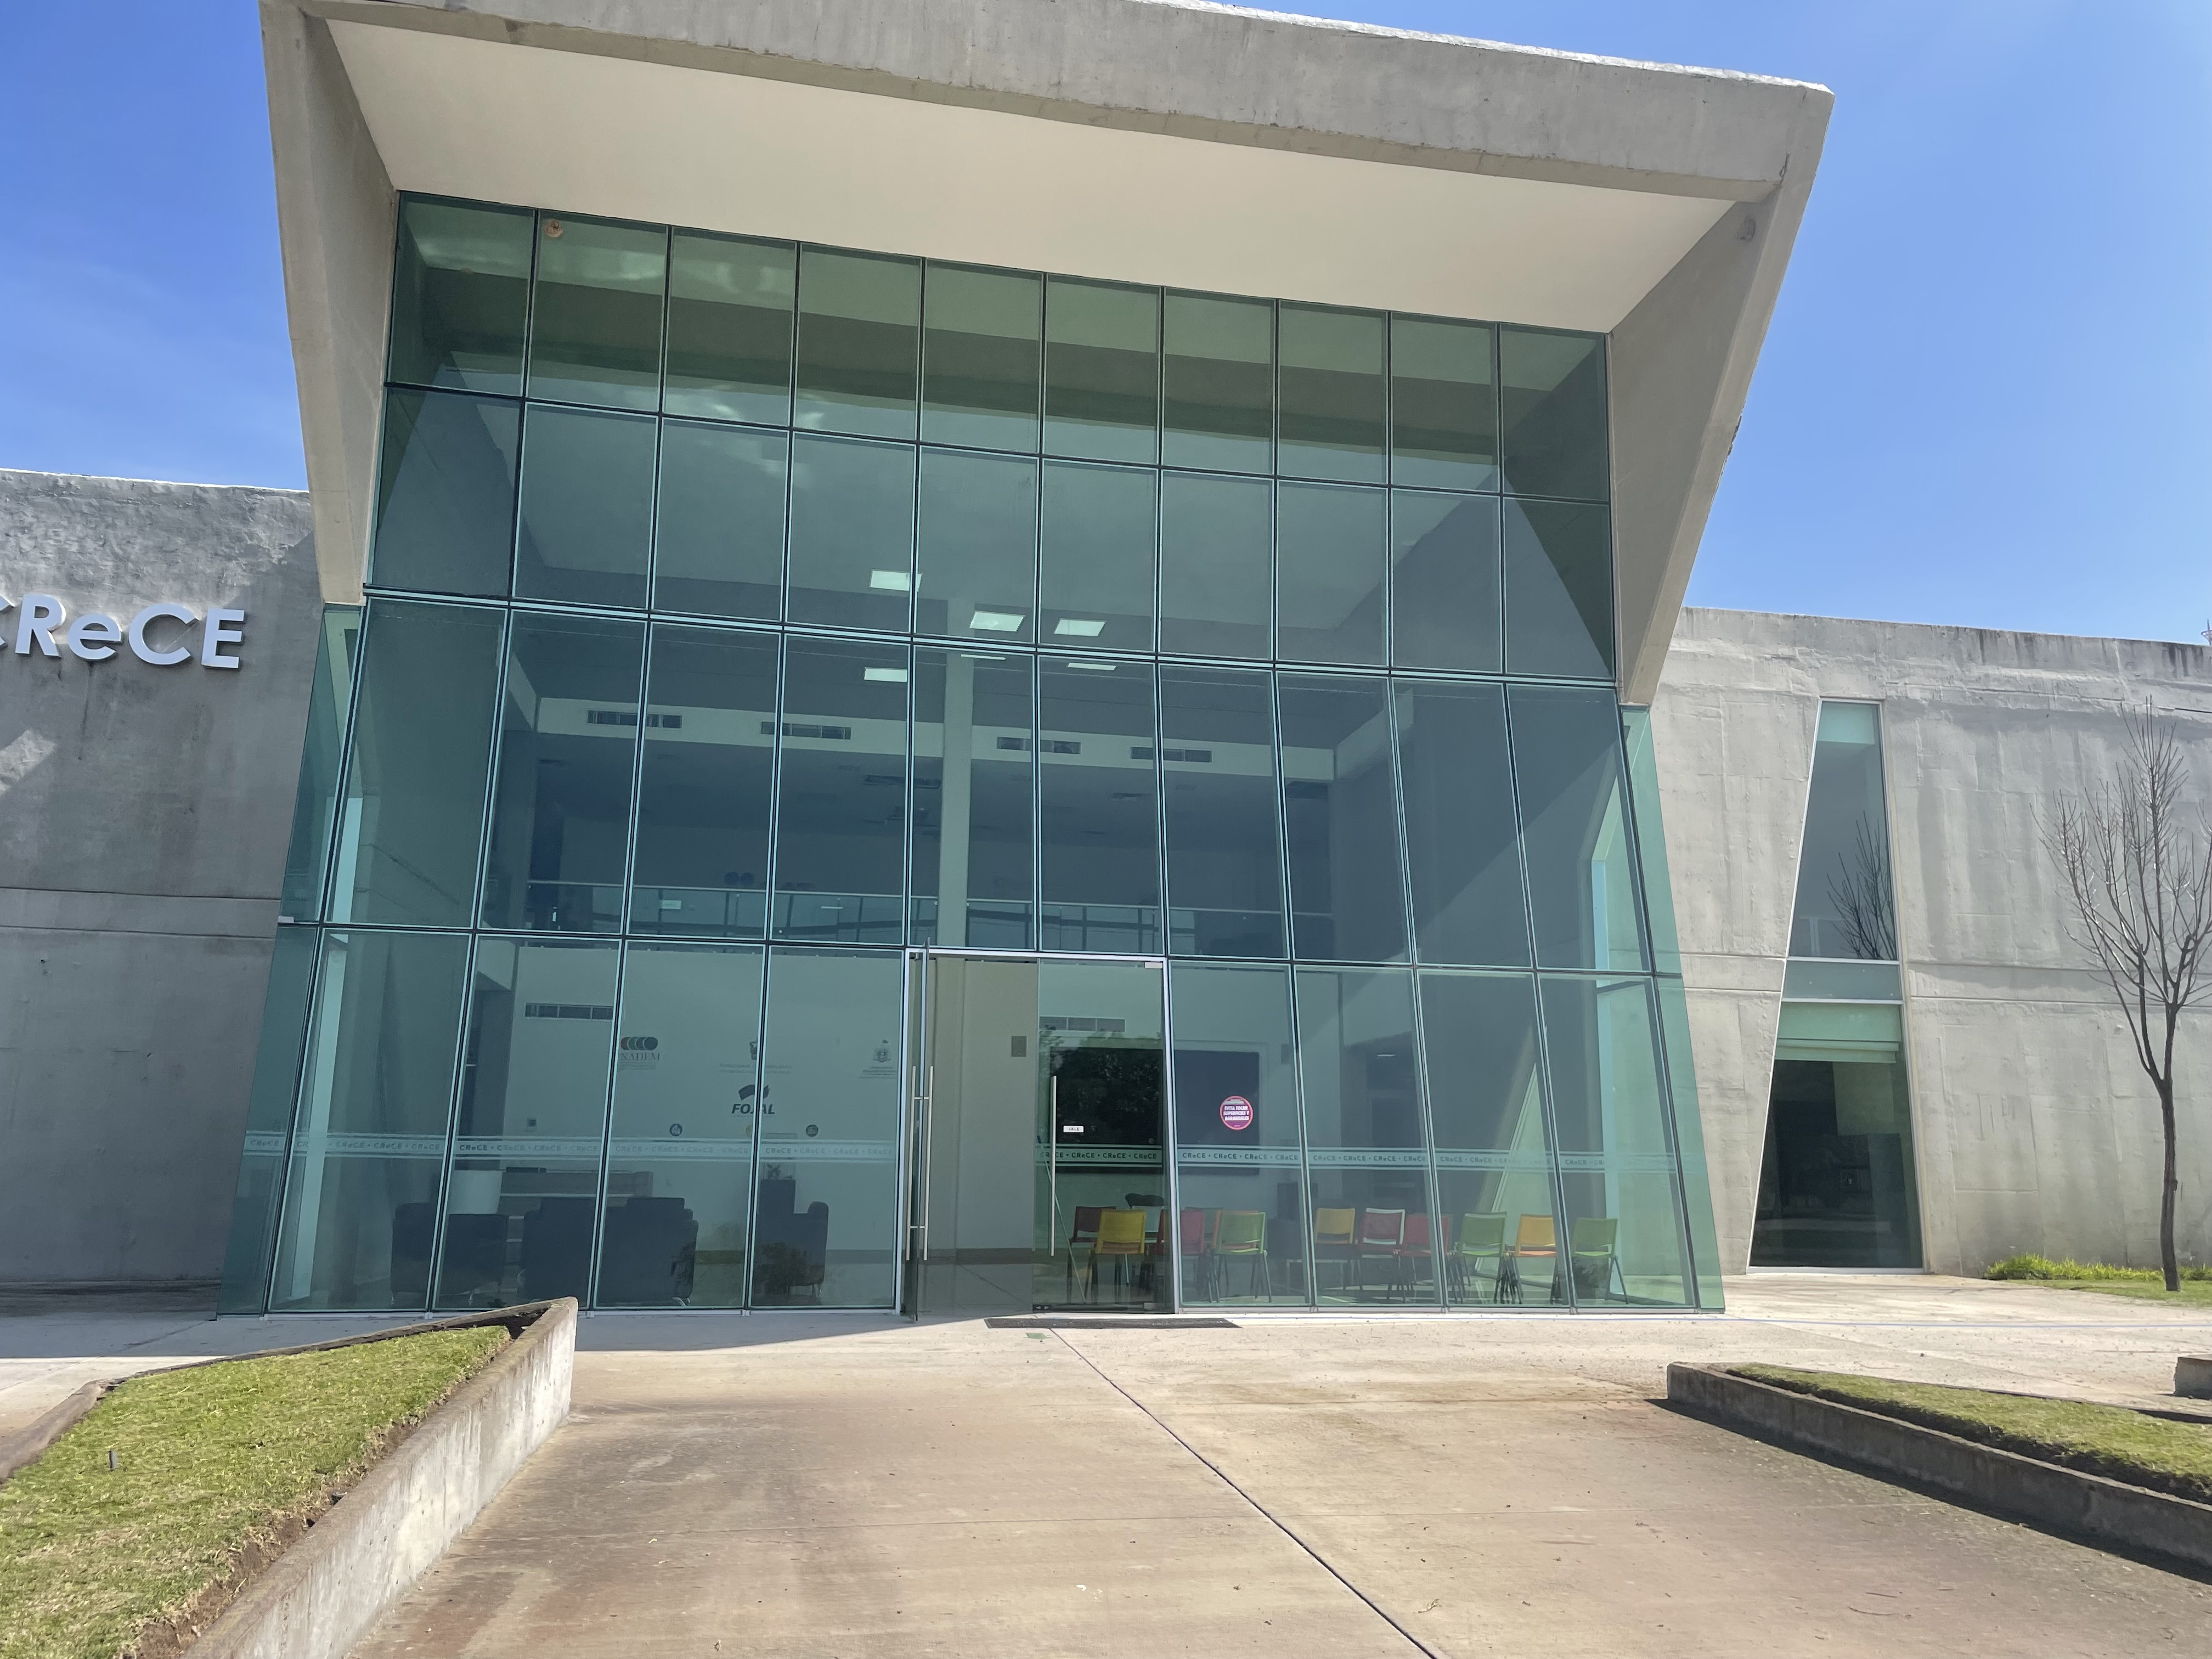crece: (21, 0, 2142, 1476)
